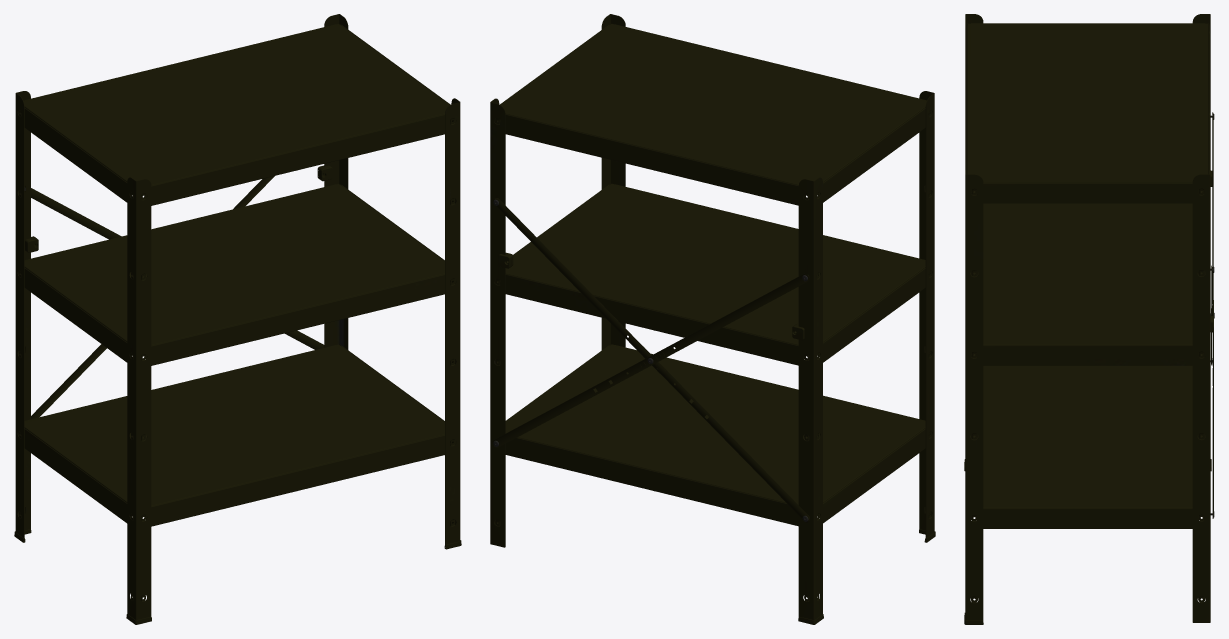
File: 13 - BROR Shelving unit - black 85x55x110 cm.glb
The picture shows the model from 3 angles, left to right: view 1: azimuth 30°, elevation 25°; view 2: azimuth 150°, elevation 25°; view 3: azimuth 270°, elevation 25°; orthographic projection.
Size of the model in its own units: 0.8507 by 1.1 by 0.5561.
1 material, 1 textured.
